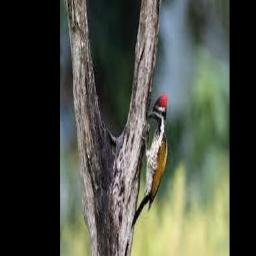Woodpecker: (131, 95, 167, 227)
